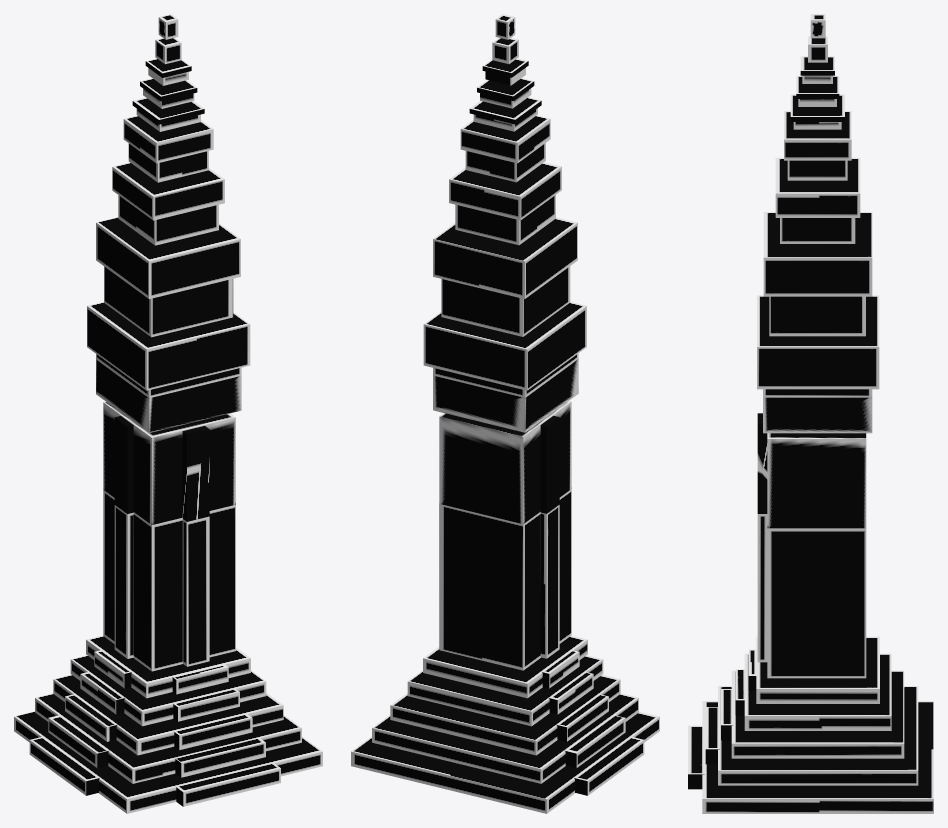
File: TowerRetry.FBX
3 renders of one model, left to right at view 1: azimuth 30°, elevation 25°; view 2: azimuth 150°, elevation 25°; view 3: azimuth 270°, elevation 25°, orthographic. The views are drawn at different scales.
Parts seen in each view (by area): view 1: CornerTowerMid, CornerTowerTop, CornerTowerTop1, CornerTowerBase, CornerTowerBase1, CornerTowerBase2, CornerTowerTop2, CornerTowerBase3, CornerTowerBase4, CornerTowerTop3, CornerTowerTop4, CornerTowerTop5 (+2 smaller); view 2: CornerTowerMid, CornerTowerTop, CornerTowerTop1, CornerTowerBase, CornerTowerBase1, CornerTowerBase2, CornerTowerTop2, CornerTowerBase3, CornerTowerBase4, CornerTowerTop3, CornerTowerTop4, CornerTowerTop5 (+2 smaller); view 3: CornerTowerMid, CornerTowerTop, CornerTowerTop1, CornerTowerBase, CornerTowerBase1, CornerTowerBase2, CornerTowerTop2, CornerTowerBase3, CornerTowerBase4, CornerTowerTop3, CornerTowerTop4, CornerTowerTop5 (+2 smaller).
Part boxes in pixels (x1,y1,x2,y2): CornerTowerMid: [103, 402, 235, 671]; CornerTowerTop: [87, 301, 250, 432]; CornerTowerTop1: [96, 217, 240, 337]; CornerTowerBase: [14, 711, 322, 813]; CornerTowerBase1: [35, 693, 301, 783]; CornerTowerBase2: [53, 675, 283, 755]; CornerTowerTop2: [112, 162, 224, 245]; CornerTowerBase3: [70, 655, 266, 726]; CornerTowerBase4: [86, 635, 250, 698]; CornerTowerTop3: [123, 115, 213, 182]; CornerTowerTop4: [132, 97, 204, 131]; CornerTowerTop5: [140, 78, 197, 108]; CornerTowerMid: [439, 401, 571, 670]; CornerTowerTop: [423, 302, 586, 432]; CornerTowerTop1: [433, 217, 577, 336]; CornerTowerBase: [351, 711, 659, 813]; CornerTowerBase1: [372, 693, 638, 783]; CornerTowerBase2: [390, 675, 620, 755]; CornerTowerTop2: [449, 162, 561, 245]; CornerTowerBase3: [407, 655, 603, 726]; CornerTowerBase4: [423, 635, 587, 698]; CornerTowerTop3: [460, 115, 550, 182]; CornerTowerTop4: [469, 97, 541, 131]; CornerTowerTop5: [477, 78, 534, 108]; CornerTowerMid: [757, 413, 866, 678]; CornerTowerTop: [757, 295, 879, 433]; CornerTowerTop1: [763, 212, 872, 336]; CornerTowerBase: [688, 701, 933, 813]; CornerTowerBase1: [705, 686, 918, 785]; CornerTowerBase2: [721, 670, 904, 758]; CornerTowerTop2: [775, 157, 860, 243]; CornerTowerBase3: [735, 653, 891, 730]; CornerTowerBase4: [748, 636, 879, 703]; CornerTowerTop3: [784, 111, 851, 180]; CornerTowerTop4: [790, 94, 844, 129]; CornerTowerTop5: [796, 76, 839, 106].
Bounding box in the file's own units: 74.53 × 249 × 74.3.
